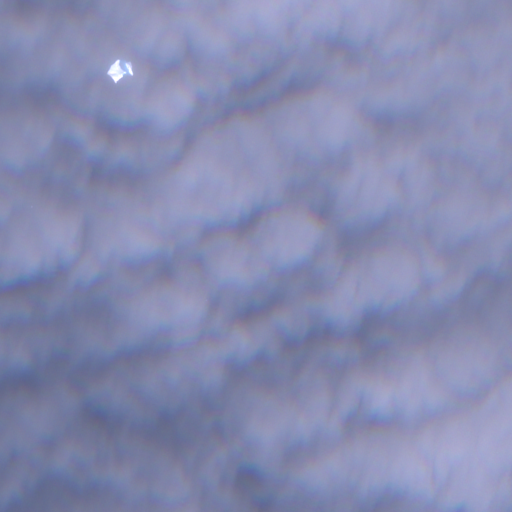Iceberg: (107, 59, 133, 82)
